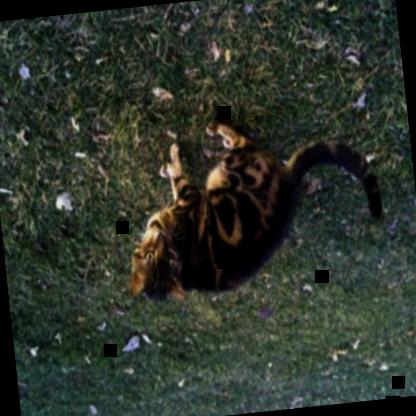cat: (114, 100, 388, 306)
